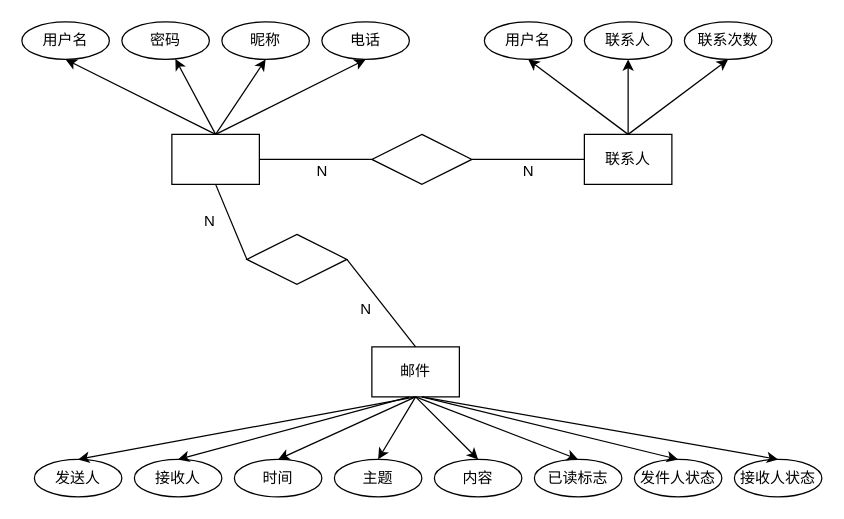
Some shapes in this 844 by 519 pixel diagram are drawn without their labels. Here are the shapes that lost their labels. From the top down, the box of each, then its label:
(171, 133, 259, 184): 用户
(371, 133, 472, 184): 邮件联系
(246, 233, 347, 284): 发件
